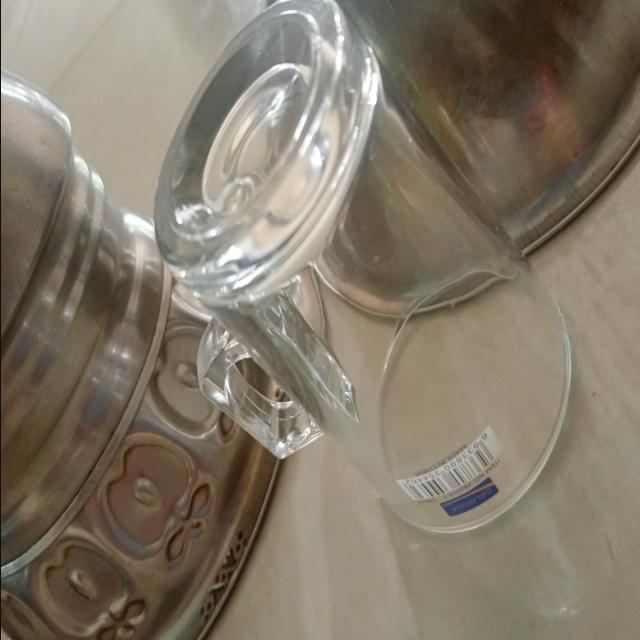glass-VX4N: (151, 1, 570, 530)
